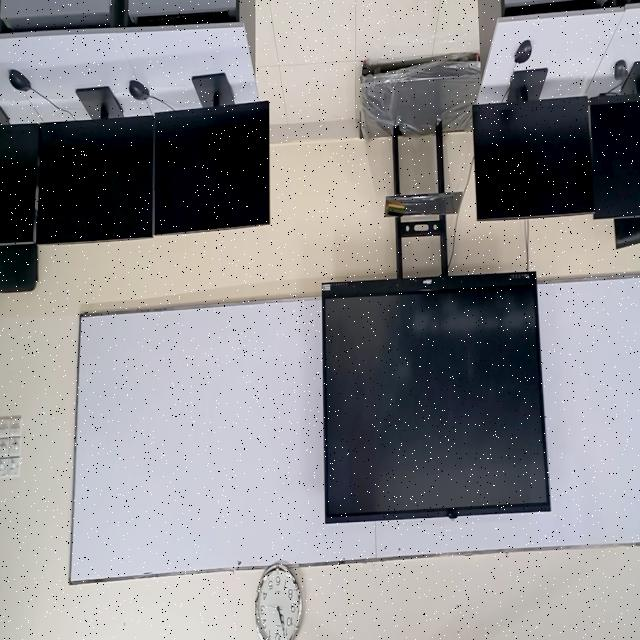Chair: (0, 244, 38, 293), (614, 217, 640, 249)
Digital board: (322, 272, 550, 523)
Monitor: (154, 101, 270, 235), (472, 97, 594, 221), (37, 117, 154, 244), (589, 87, 640, 218), (0, 125, 39, 245)
Mouse: (9, 70, 32, 92), (129, 81, 150, 101), (514, 41, 532, 64), (614, 60, 629, 83)
